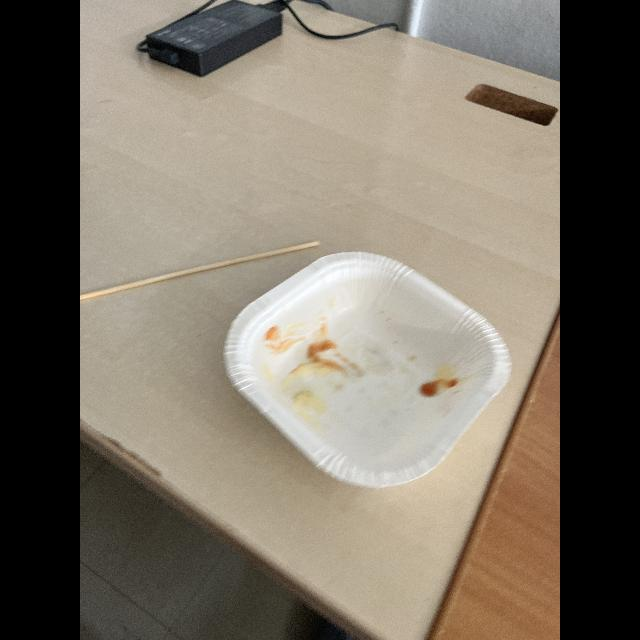cardboard_bowl: (221, 246, 514, 496)
stick: (80, 237, 324, 305)
